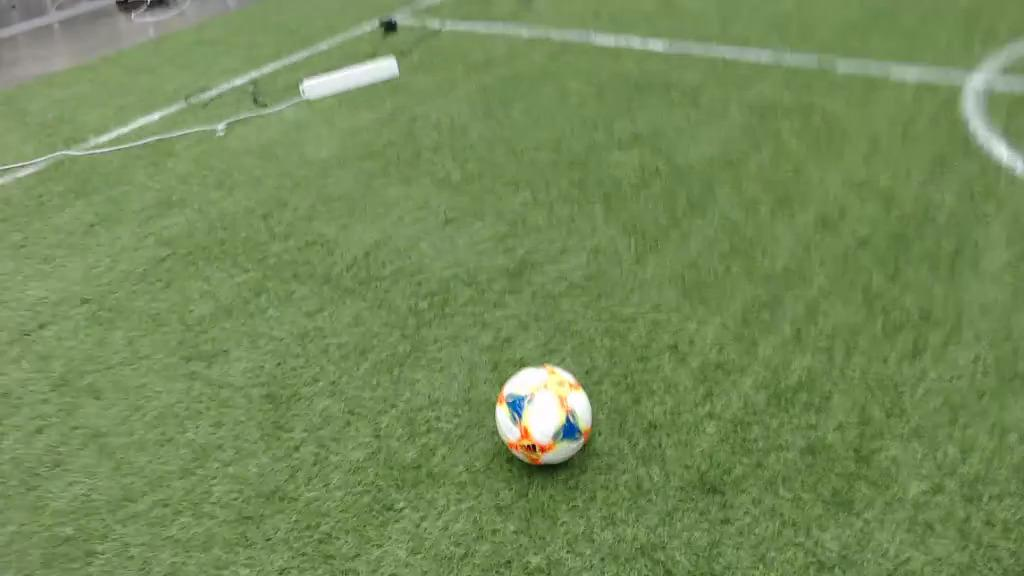ball: (497, 366, 589, 466)
